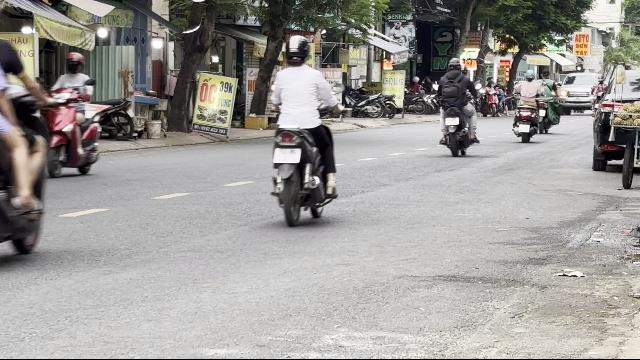helmet: (283, 34, 311, 66), (64, 52, 85, 72)
licenseplate: (274, 149, 300, 163)
motorcyclist: (266, 34, 342, 224), (41, 51, 104, 179)
